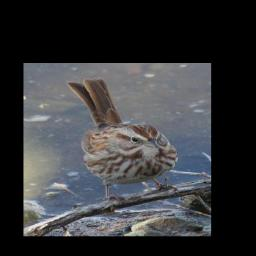Sparrow: (65, 77, 180, 207)
